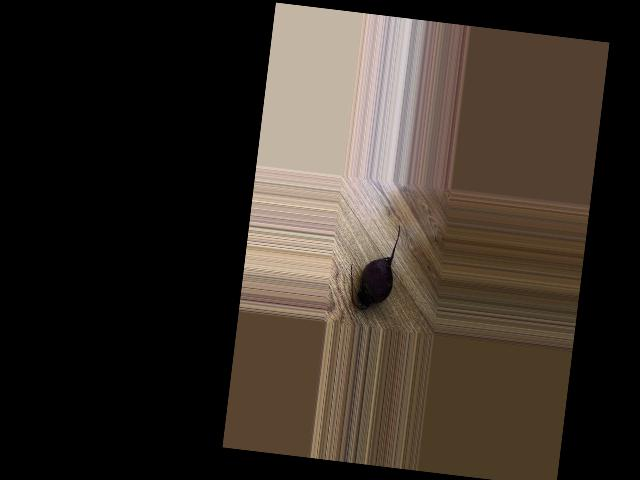beet: (346, 219, 400, 312)
